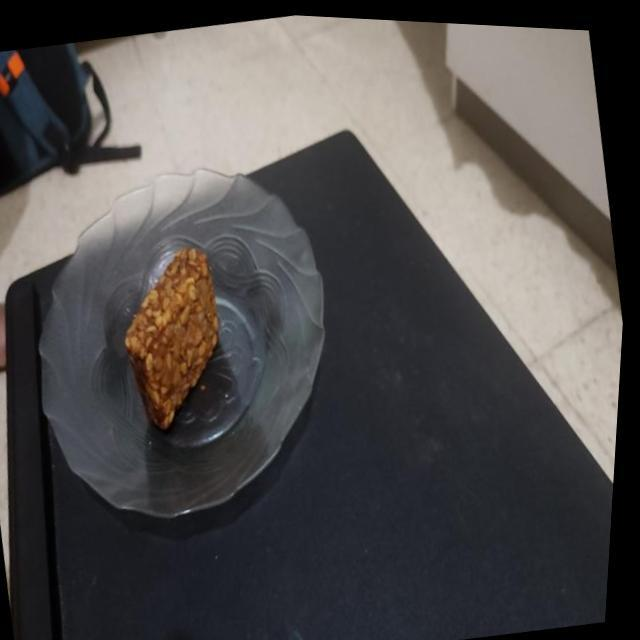tempe_goreng: (125, 248, 218, 428)
